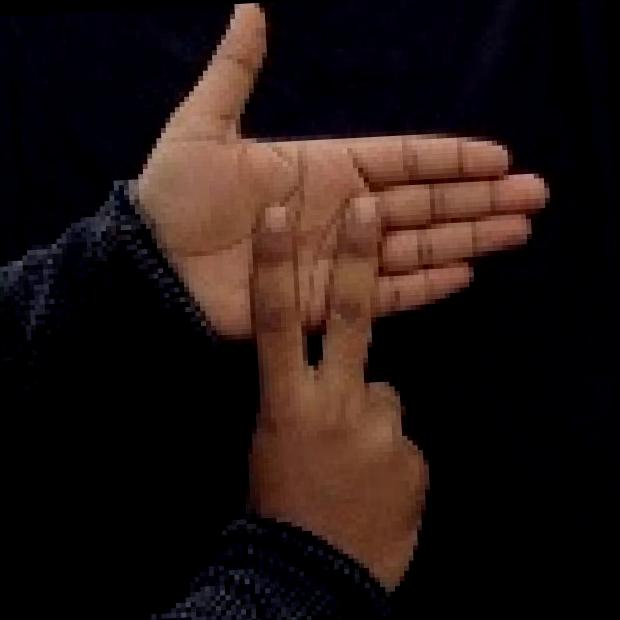M: (112, 0, 582, 601)
